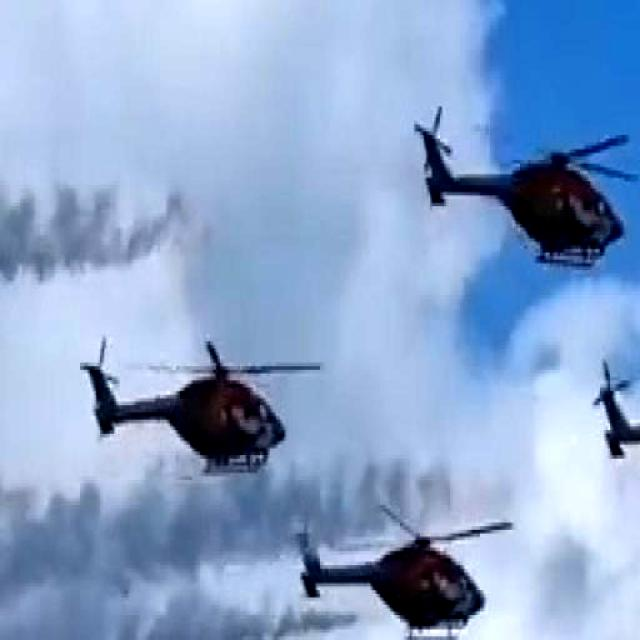drone: (415, 99, 640, 281), (84, 329, 324, 486), (296, 510, 516, 640)
